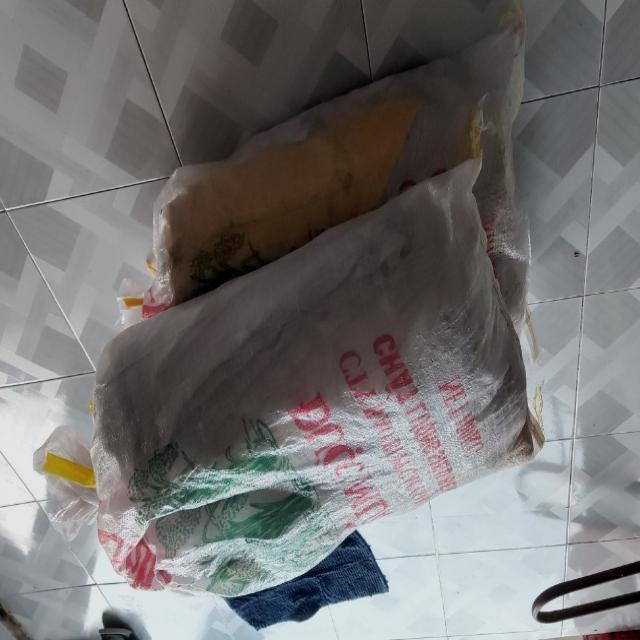gunny_bag: (91, 158, 541, 597), (145, 5, 530, 331)
